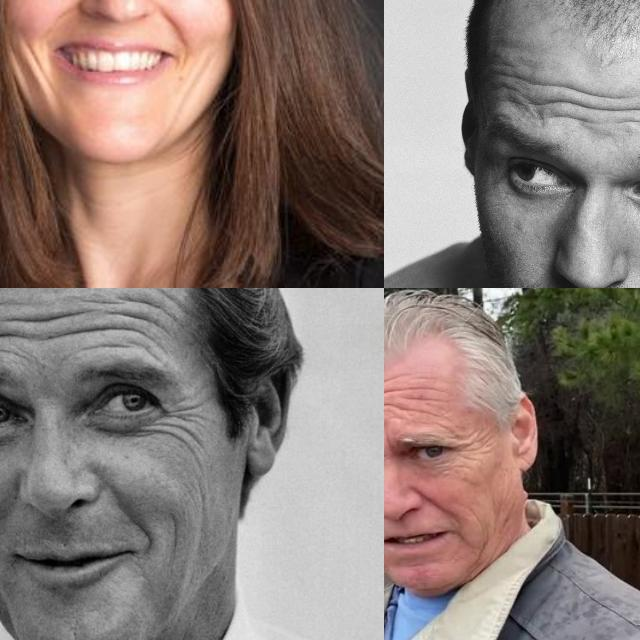crows_feet: (162, 407, 200, 439), (452, 432, 484, 460)
forehead: (512, 74, 590, 124), (115, 292, 151, 332), (400, 378, 432, 418), (21, 304, 69, 330), (609, 93, 640, 131), (47, 323, 107, 342), (88, 337, 134, 358), (80, 291, 120, 311), (384, 382, 392, 416)
frown_line: (384, 430, 389, 456)
gummy_smile: (152, 0, 185, 38), (416, 486, 448, 518), (48, 0, 80, 24)
masseter: (6, 34, 44, 90), (192, 45, 214, 105), (162, 514, 184, 556), (470, 539, 490, 567)
